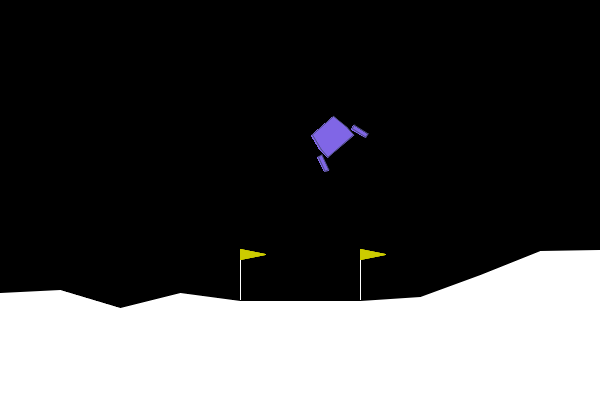lander: (299, 105, 370, 174)
